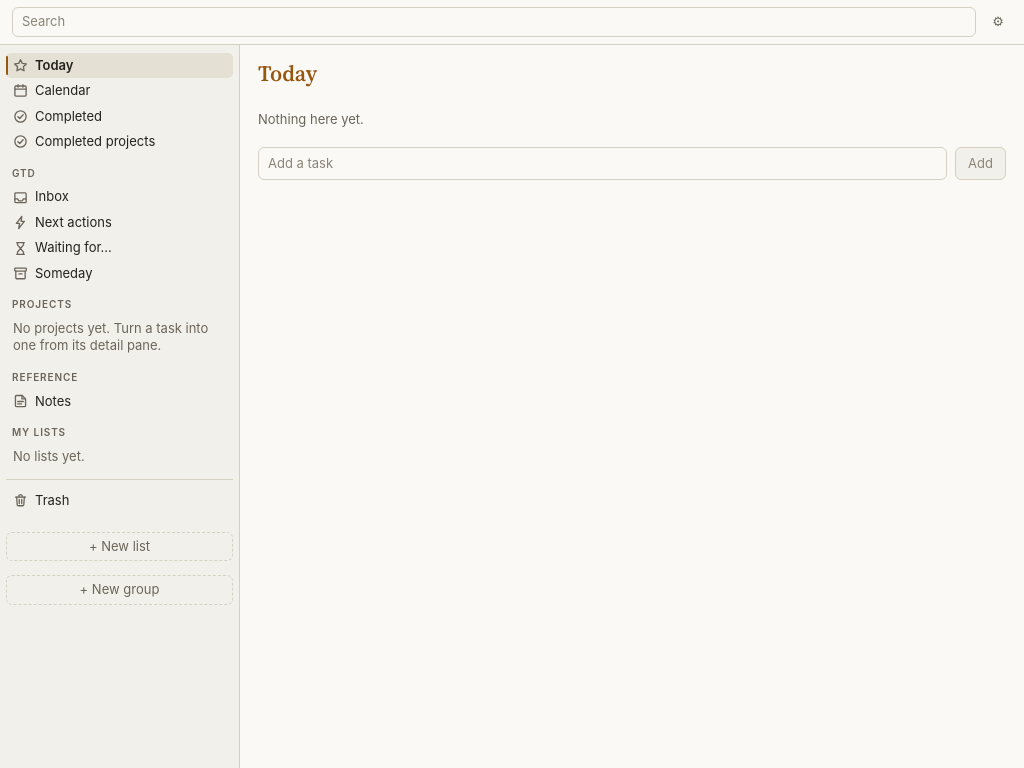
it: Shell › addingATaskInTodayShowsItImmediately
This screenshot has width=1024, height=768.
Step 1. Type "buy milk" into the field labelled "Add a task" → (603, 164), box top-left (258, 147), bottom-right (947, 180)
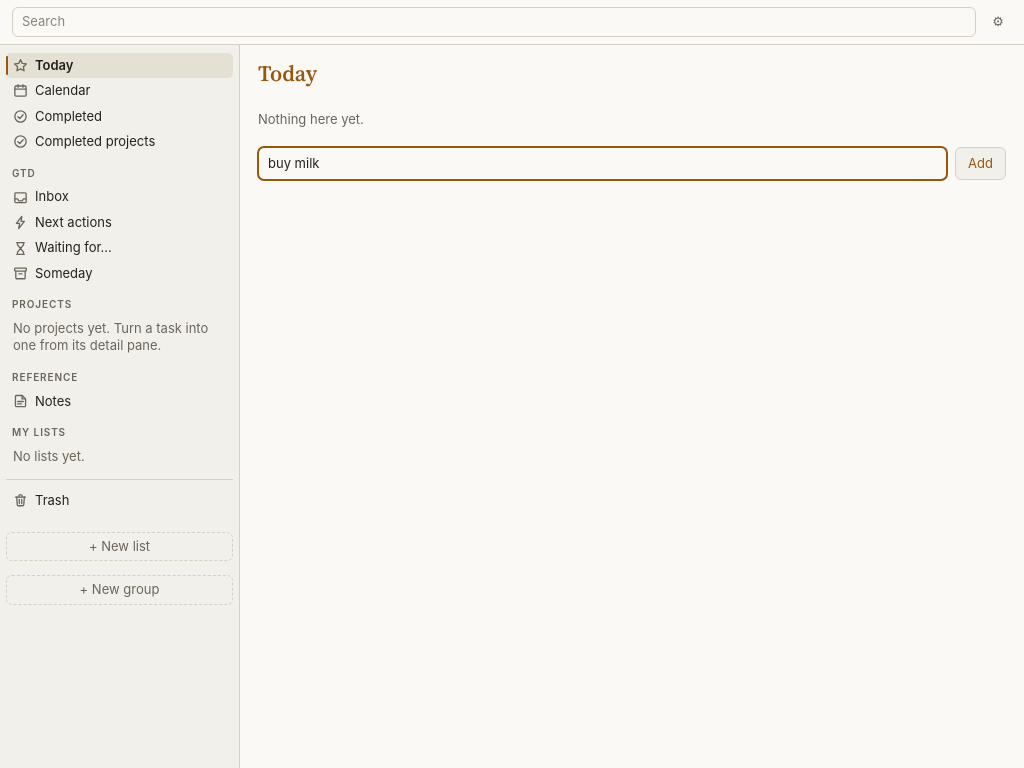
Step 2. Click the button "Add" → (981, 164), box top-left (955, 147), bottom-right (1006, 180)
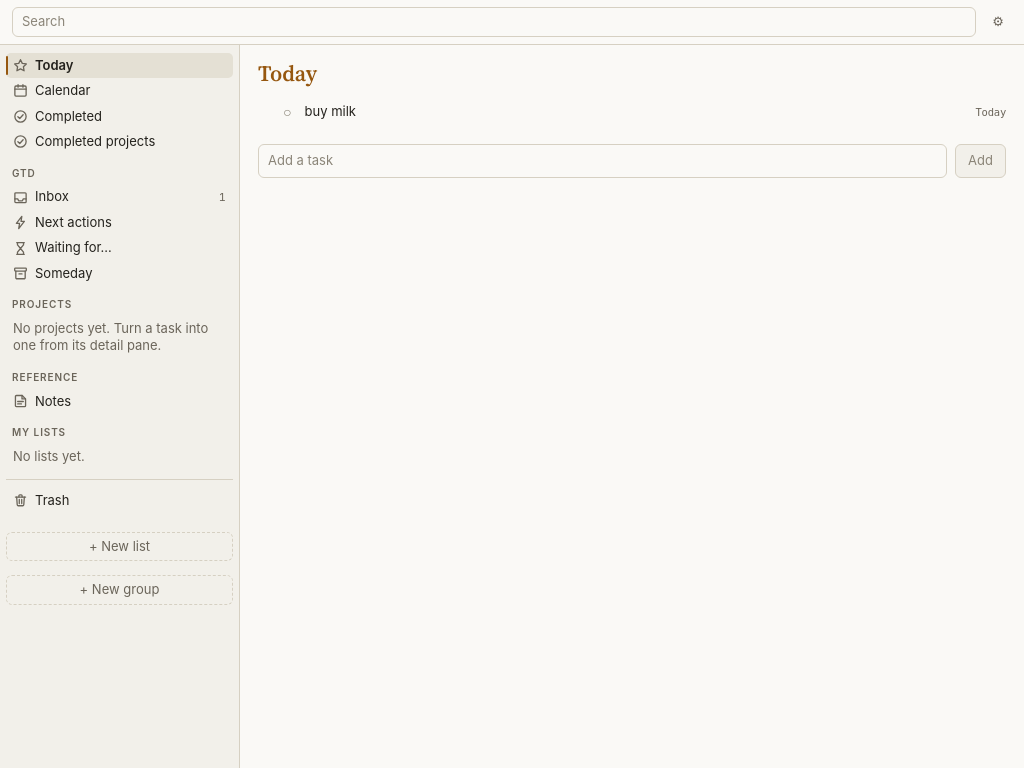
Check: the text "buy milk" is shown, box top-left (304, 104), bottom-right (356, 121)
